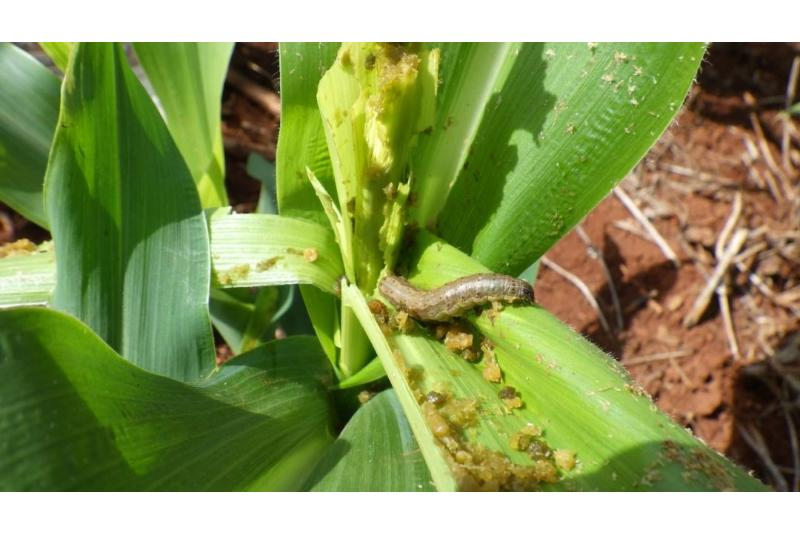fall-armyworm: (379, 273, 535, 322)
